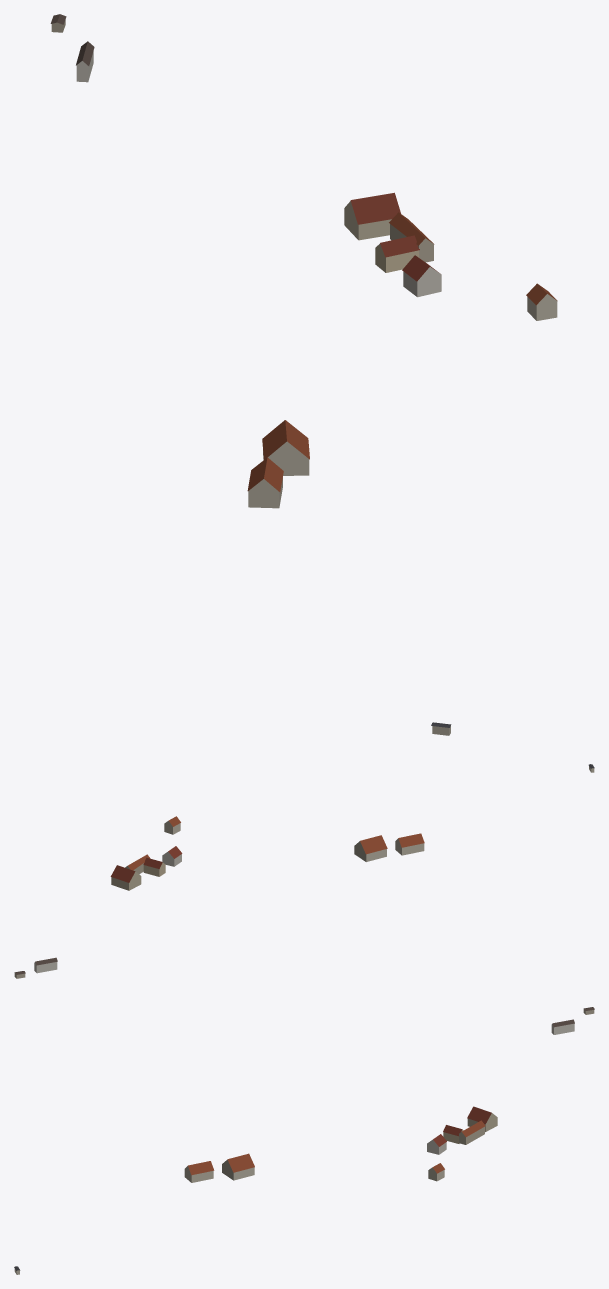
3 renders of one model, top to bottom at view 1: azimuth 30°, elevation 25°; view 2: azimuth 150°, elevation 25°; view 3: azimuth 330°, elevation 25°, orthographic. The views are drawn at different scales.
Parts seen in each view (by area): view 1: buildings; view 2: buildings; view 3: buildings.
Boxes of the visible parts, x1,y1,x2,y2 form: buildings: (50, 14, 557, 735); buildings: (14, 764, 594, 978); buildings: (14, 1007, 594, 1274).
Bounding box in the file's own units: 186 × 23.92 × 508.
